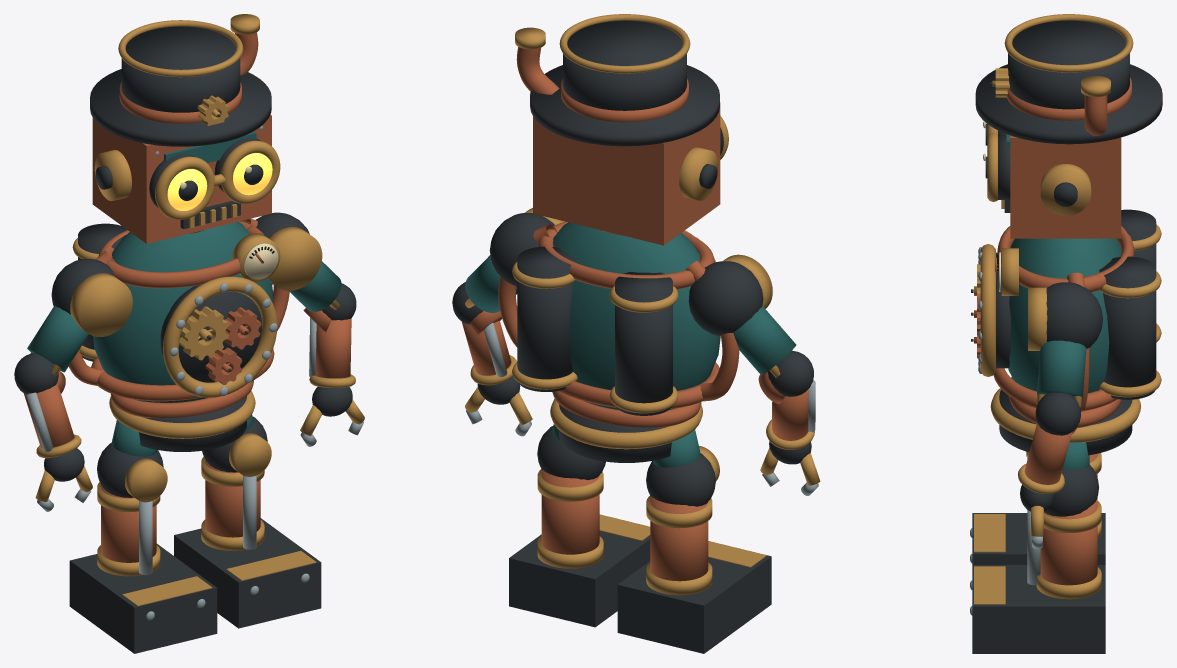
File: bot_mecha_warrior_web-Cb8KpdoV.glb
3 renders of one model, left to right at view 1: azimuth 30°, elevation 25°; view 2: azimuth 150°, elevation 25°; view 3: azimuth 270°, elevation 25°, orthographic. The views are drawn at different scales.
Parts seen in each view (by area): view 1: Enamel pressure vessel, Riveted iron boot, Riveted iron boot.001, Stovepipe hat, Rounded copper head, Hat brim, Chest service flange, Shoulder cap, Clockwork chest backing, Shoulder cap.001, Copper boiler band.002, Waist belt (+46 smaller); view 2: Rounded copper head, Enamel pressure vessel, Riveted iron boot, Stovepipe hat, Riveted iron boot.001, Back pressure tank, Hat brim, Back pressure tank.001, Shoulder ball, Lower leg boiler.001, Lower leg boiler, Knee joint (+34 smaller); view 3: Rounded copper head, Riveted iron boot.001, Stovepipe hat, Enamel pressure vessel, Back pressure tank.001, Hat brim, Lower leg boiler.001, Shoulder ball.001, Upper arm enamel shell.001, Hat crown rolled edge, Riveted iron boot, Waist belt (+32 smaller).
Part boxes in pixels (left/top/right/bottom): Enamel pressure vessel: left=93, top=222, right=273, bottom=402; Riveted iron boot: left=69, top=544, right=217, bottom=653; Riveted iron boot.001: left=174, top=518, right=321, bottom=628; Stovepipe hat: left=121, top=26, right=240, bottom=112; Rounded copper head: left=92, top=114, right=271, bottom=243; Hat brim: left=90, top=69, right=271, bottom=146; Chest service flange: left=163, top=276, right=277, bottom=397; Shoulder cap: left=70, top=273, right=132, bottom=336; Clockwork chest backing: left=160, top=285, right=261, bottom=382; Shoulder cap.001: left=269, top=226, right=322, bottom=290; Copper boiler band.002: left=98, top=221, right=263, bottom=288; Waist belt: left=109, top=390, right=255, bottom=438; Rounded copper head: left=533, top=102, right=720, bottom=245; Enamel pressure vessel: left=553, top=222, right=720, bottom=409; Riveted iron boot: left=617, top=555, right=771, bottom=653; Stovepipe hat: left=563, top=20, right=686, bottom=110; Riveted iron boot.001: left=509, top=531, right=650, bottom=627; Back pressure tank: left=615, top=271, right=672, bottom=415; Hat brim: left=530, top=65, right=719, bottom=146; Back pressure tank.001: left=517, top=246, right=575, bottom=391; Shoulder ball: left=688, top=261, right=763, bottom=336; Lower leg boiler.001: left=541, top=470, right=599, bottom=554; Lower leg boiler: left=650, top=496, right=708, bottom=581; Knee joint: left=646, top=453, right=715, bottom=506; Rounded copper head: left=1010, top=135, right=1121, bottom=238; Riveted iron boot.001: left=972, top=565, right=1105, bottom=653; Stovepipe hat: left=1008, top=20, right=1129, bottom=109; Enamel pressure vessel: left=1008, top=238, right=1121, bottom=392; Back pressure tank.001: left=1099, top=256, right=1156, bottom=399; Hat brim: left=975, top=64, right=1162, bottom=144; Lower leg boiler.001: left=1040, top=498, right=1097, bottom=585; Shoulder ball.001: left=1046, top=282, right=1102, bottom=348; Upper arm enamel shell.001: left=1037, top=340, right=1086, bottom=398; Hat crown rolled edge: left=1004, top=14, right=1133, bottom=72; Riveted iron boot: left=972, top=513, right=1105, bottom=564; Waist belt: left=990, top=388, right=1140, bottom=442.
Size of the model in its own units: 2.54 by 3.95 by 1.61.
